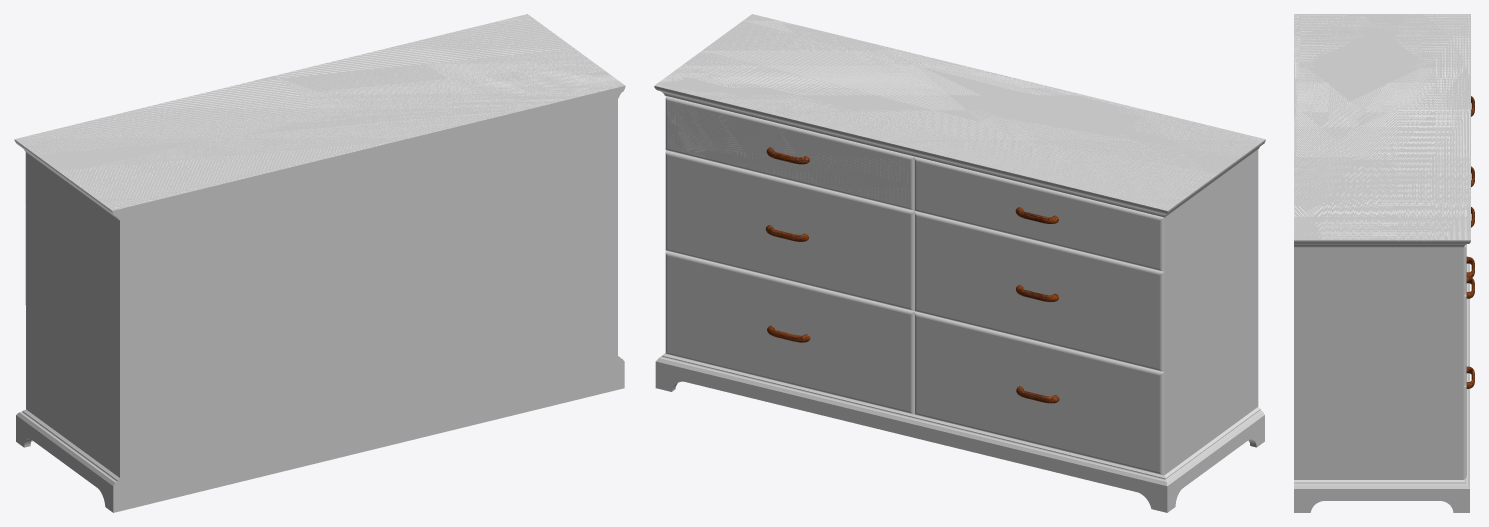
The picture shows the model from 3 angles, left to right: view 1: azimuth 30°, elevation 25°; view 2: azimuth 150°, elevation 25°; view 3: azimuth 270°, elevation 25°; orthographic projection. The views are drawn at different scales.
Parts seen in each view (by area): view 1: mesh1_mesh1-geometry; view 2: mesh1_mesh1-geometry; view 3: mesh1_mesh1-geometry.
Part boxes in pixels (left/top/right/bottom): mesh1_mesh1-geometry: left=14, top=14, right=625, bottom=512; mesh1_mesh1-geometry: left=654, top=14, right=1265, bottom=512; mesh1_mesh1-geometry: left=1294, top=14, right=1474, bottom=512.
Bounding box in the file's own units: 0.8359 × 0.4706 × 0.2824.
